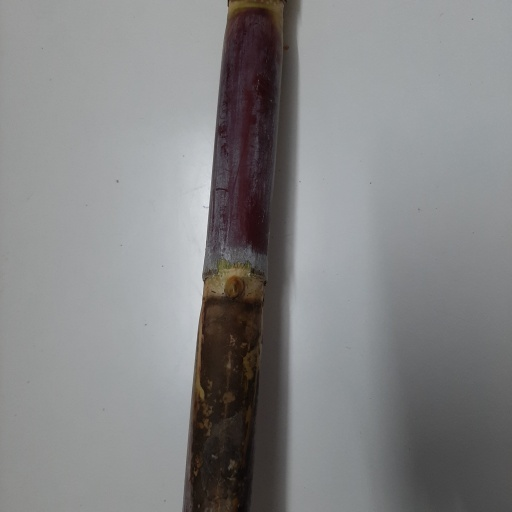Bud: (223, 277, 243, 301)
